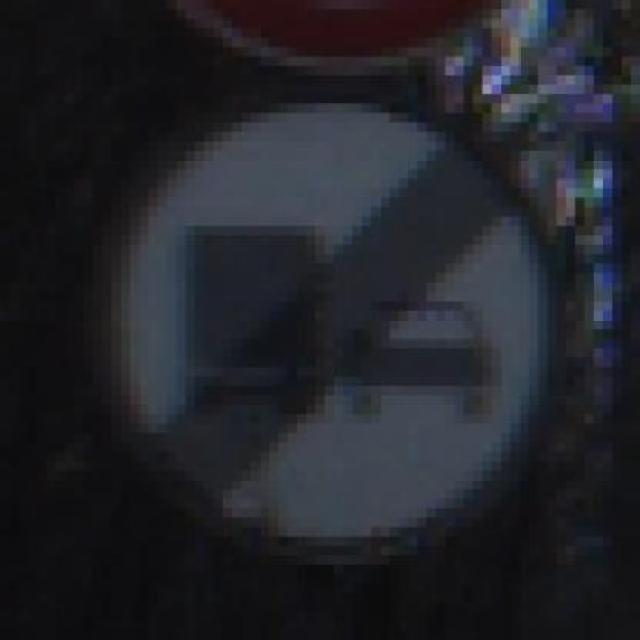Overtaking by trucks is prohibited: (37, 85, 603, 564)
